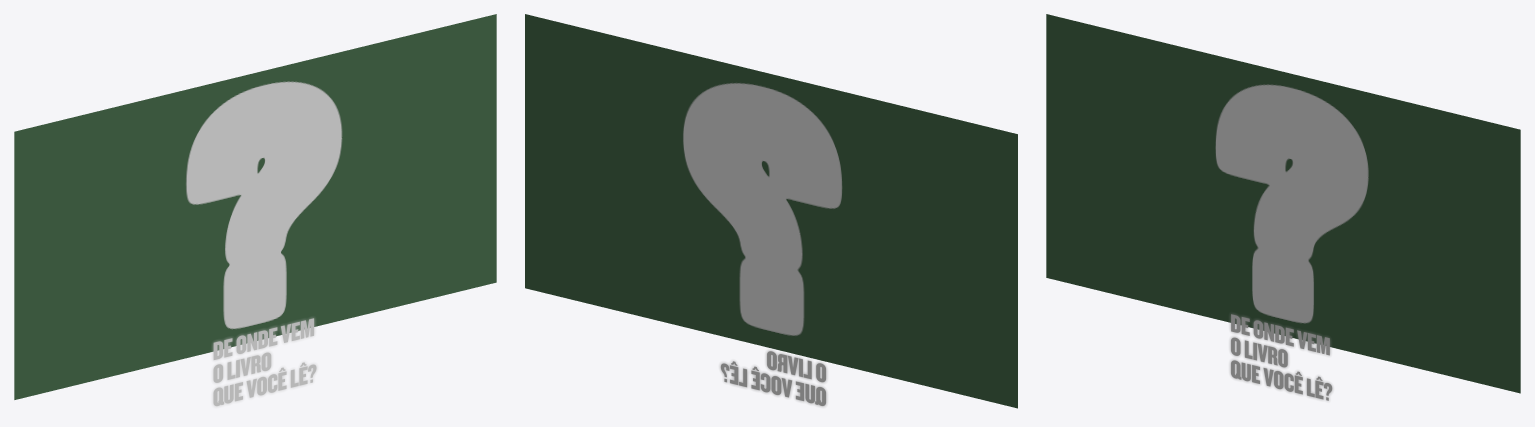
The model's file is FIRJAN_XR_Collection_1.glb.
3 views of the same model, side by side, from view 1: azimuth 30°, elevation 25°; view 2: azimuth 150°, elevation 25°; view 3: azimuth 330°, elevation 25° (orthographic). The views are drawn at different scales.
Parts seen in each view (by area): view 1: 01_let_interrogacao, BOARD_01_pergunta_de_onde_vem; view 2: 01_let_interrogacao, BOARD_01_pergunta_de_onde_vem; view 3: 01_let_interrogacao, BOARD_01_pergunta_de_onde_vem.
Boxes of the visible parts, x1,y1,x2,y2 form: 01_let_interrogacao: [14, 14, 496, 399]; BOARD_01_pergunta_de_onde_vem: [212, 317, 317, 407]; 01_let_interrogacao: [525, 14, 1017, 408]; BOARD_01_pergunta_de_onde_vem: [719, 350, 827, 406]; 01_let_interrogacao: [1046, 14, 1520, 393]; BOARD_01_pergunta_de_onde_vem: [1230, 313, 1333, 400].
Bounding box in the file's own units: 13.77 × 8.81 × 0.2817.
2 materials, 2 textured.
